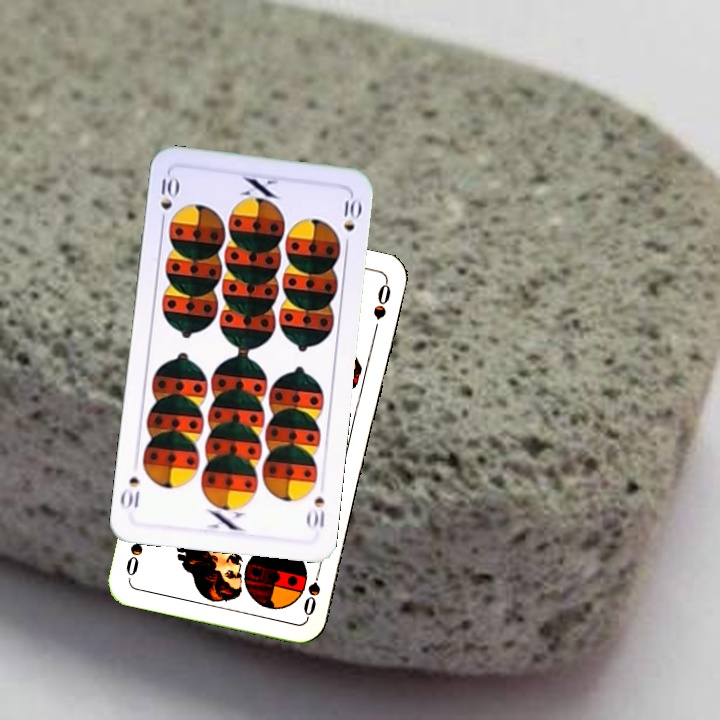S10: (157, 170, 180, 229), (303, 493, 327, 531)
SO: (299, 561, 325, 619)
